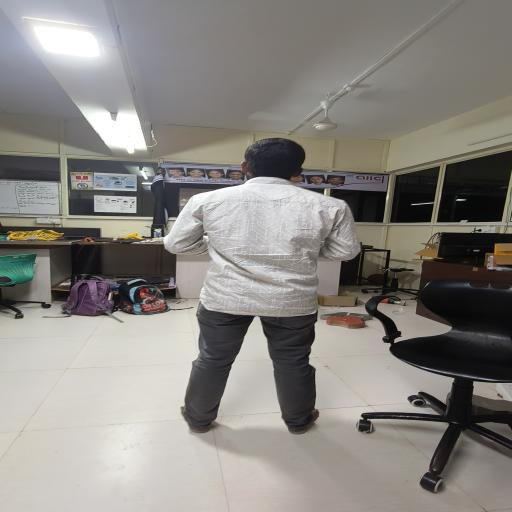survivor: (162, 138, 362, 436)
